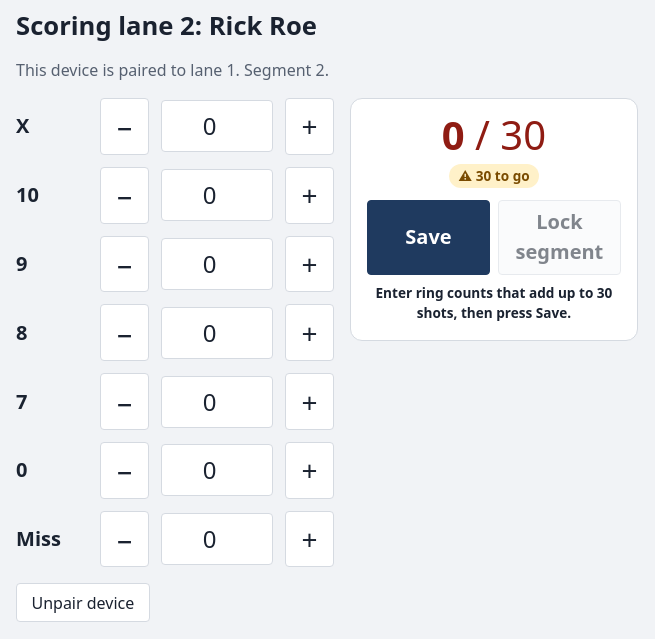
Test case: Scorer › stops accepting shots once the segment is full
Step 1. Replace the text in the number field named "10 count" with "25" → (217, 195), box [161,169,273,221]
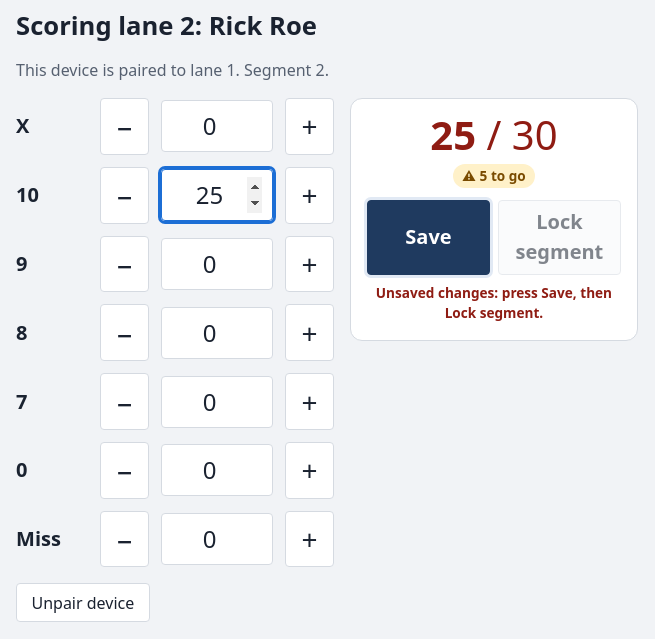
Step 2. Type "9" into the number field named "9 count" → (217, 264), box [161,238,273,290]
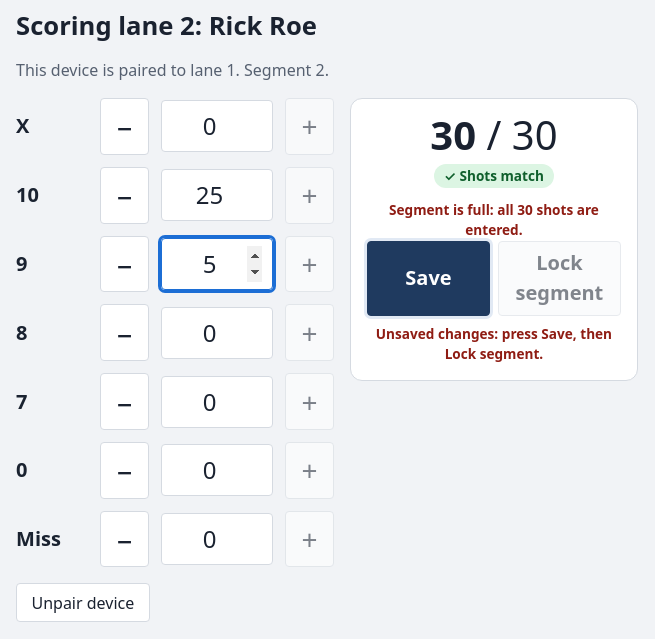
Expected: the number field named "9 count" holds "5", [161,238,273,290]
Expected: the text "Segment is full: all 30 shots are entered." is shown, [389,200,599,239]
Expected: the button named "Increase X" is disabled, [285,98,334,155]
Step 3. Click the button named "Decrease 10" → (125, 195), box [100,167,149,224]
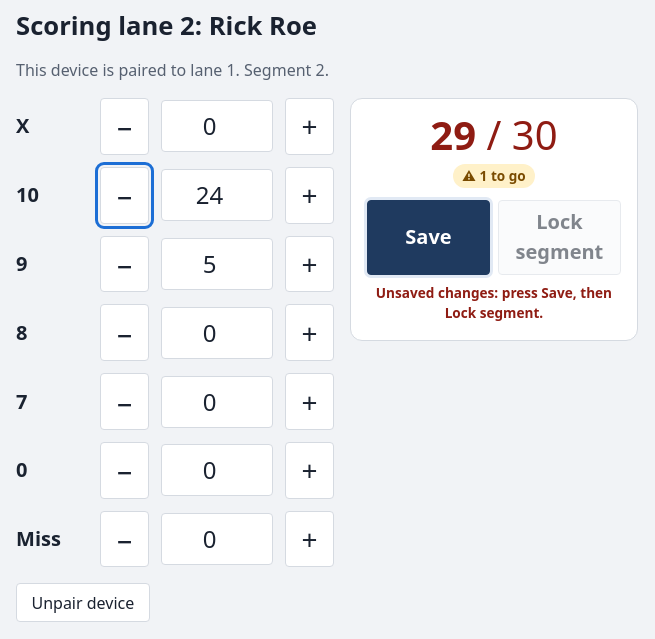
Expected: the button named "Increase X" is enabled, [285,98,334,155]
Expected: the text "Segment is full" is gone
